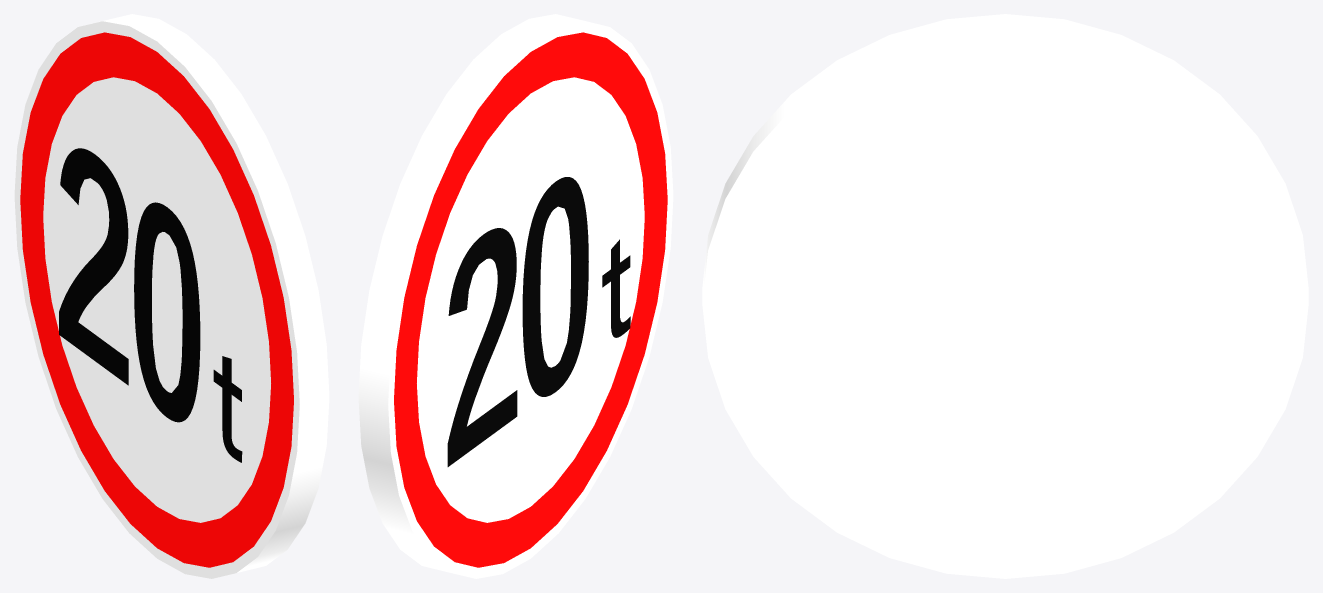
File: Weight_Limit_20.glb
The picture shows the model from 3 angles, left to right: view 1: azimuth 30°, elevation 25°; view 2: azimuth 150°, elevation 25°; view 3: azimuth 270°, elevation 25°; orthographic projection. The views are drawn at different scales.
Visible parts, largest first — view 1: Weight_Limit_20; view 2: Weight_Limit_20; view 3: Weight_Limit_20.
Part boxes in pixels (<box>): Weight_Limit_20: <box>14,14,329,578</box>; Weight_Limit_20: <box>358,14,673,578</box>; Weight_Limit_20: <box>702,14,1308,578</box>.
Size of the model in its own units: 0.075 by 1 by 1.
